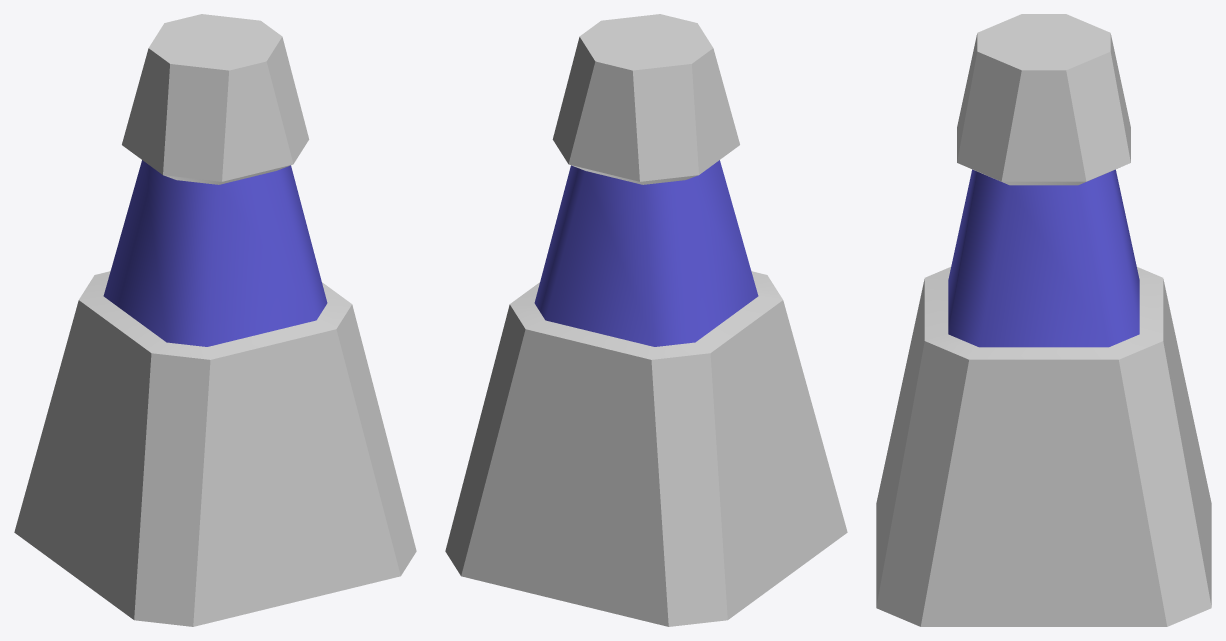
File: cblamp00.glb
The picture shows the model from 3 angles, left to right: view 1: azimuth 30°, elevation 25°; view 2: azimuth 150°, elevation 25°; view 3: azimuth 270°, elevation 25°; orthographic projection. The views are drawn at different scales.
Parts seen in each view (by area): view 1: lamp1; view 2: lamp1; view 3: lamp1.
Part boxes in pixels (x1=…): lamp1: x1=14, y1=14, x2=416, y2=626; lamp1: x1=445, y1=14, x2=847, y2=626; lamp1: x1=876, y1=14, x2=1211, y2=626.
Size of the model in its own units: 4 by 6.76 by 4.
